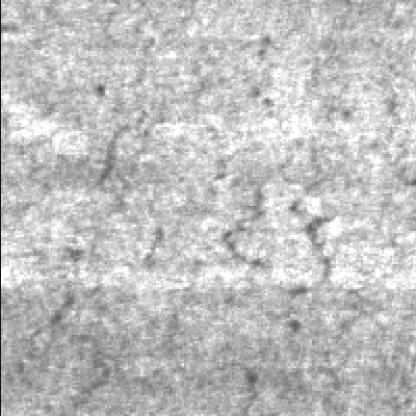crazing: (210, 41, 354, 341), (13, 227, 144, 416)
